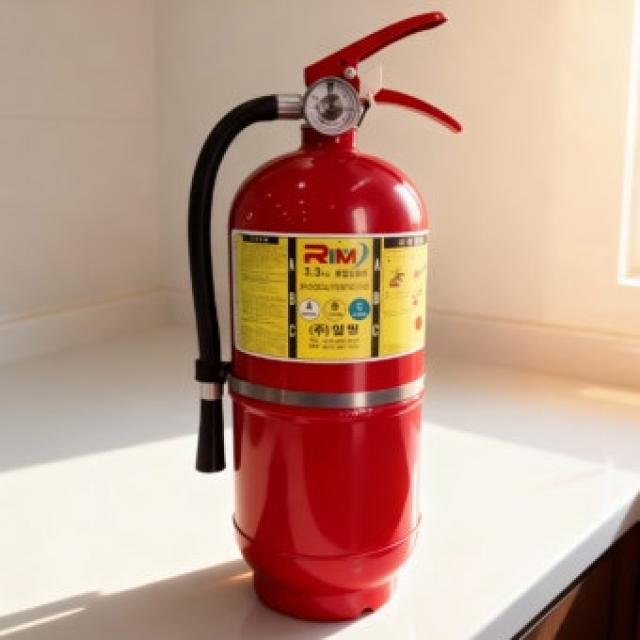pressure gauge: (304, 78, 361, 135)
